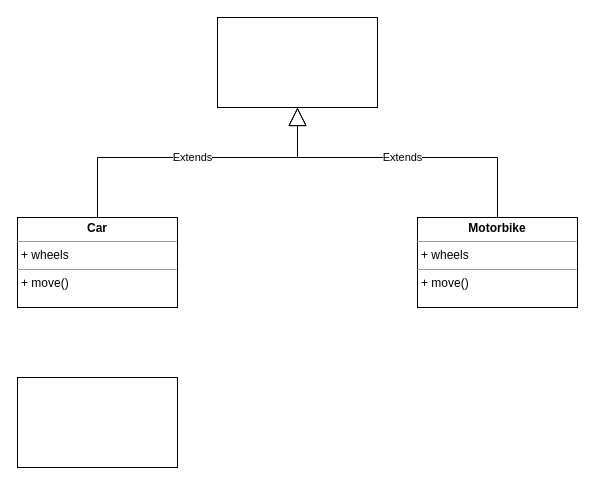
Image size: 595x485. Some labels were removed from this diagram. The box of each missing label's shape, as (x1, y1, x2, y2) in pixels:
myCar : Car + wheels + move(): (16, 376, 178, 468)
Vehicle + wheels + move(): (216, 16, 378, 108)
